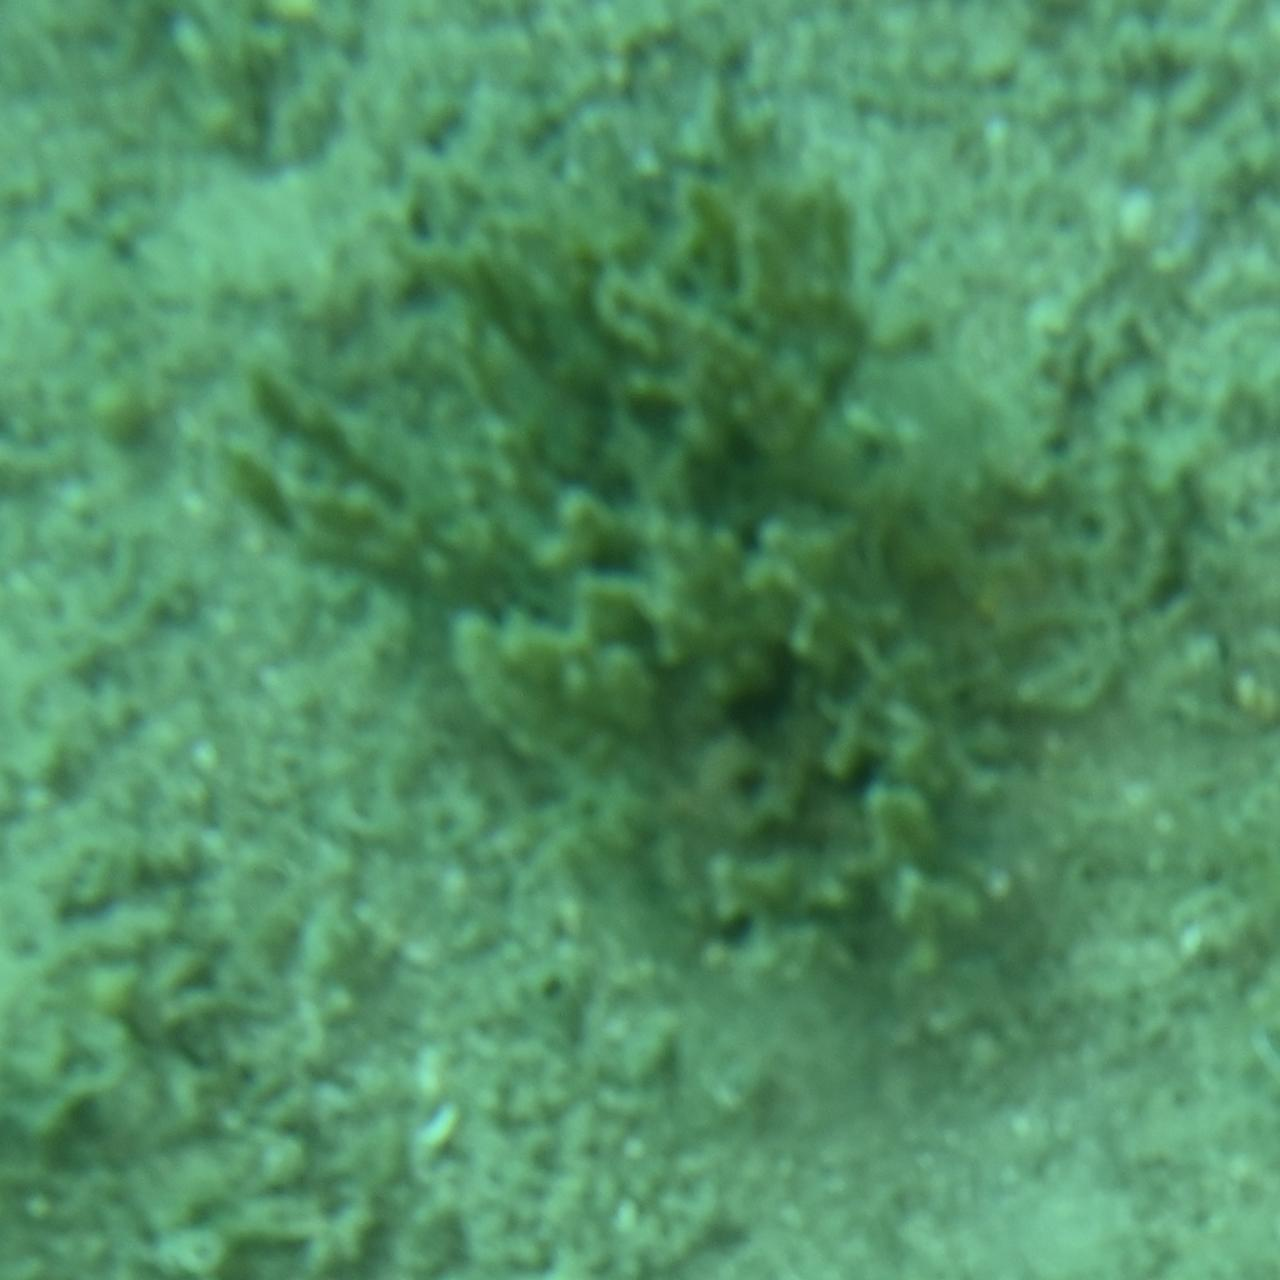Phaeophyceae -cfr Cystoseira-: (211, 20, 1069, 960)
